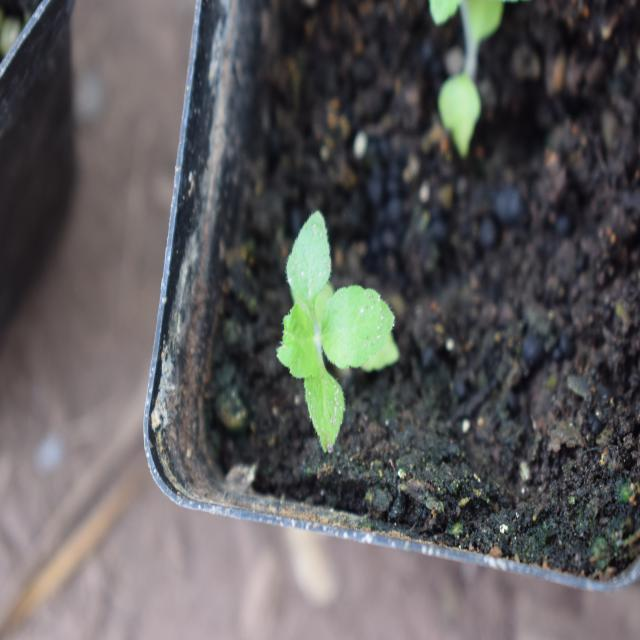billygoat_weed: (252, 212, 398, 454)
